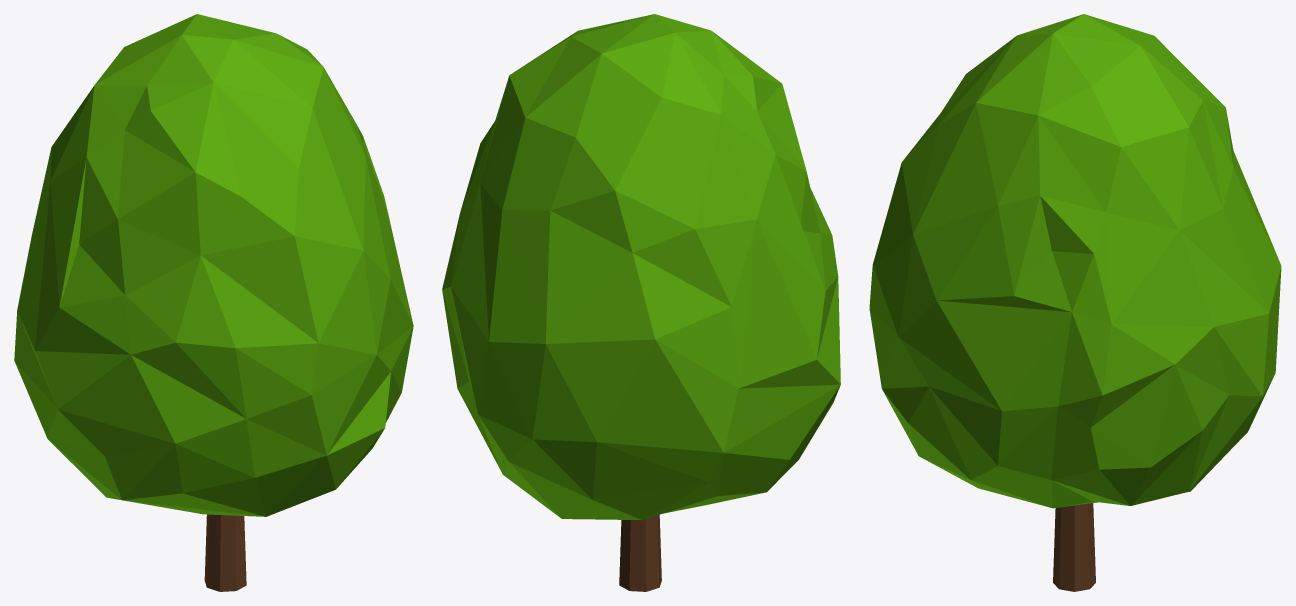
The model's file is ShrubTreeC.fbx.
3 renders of one model, left to right at view 1: azimuth 30°, elevation 25°; view 2: azimuth 150°, elevation 25°; view 3: azimuth 270°, elevation 25°, orthographic. The views are drawn at different scales.
Visible parts, largest first — view 1: ShrubTreeC_geo; view 2: ShrubTreeC_geo; view 3: ShrubTreeC_geo.
Part boxes in pixels (<box>): ShrubTreeC_geo: <box>14,14,413,591</box>; ShrubTreeC_geo: <box>442,14,840,591</box>; ShrubTreeC_geo: <box>869,14,1281,591</box>.
Bounding box in the file's own units: 427 × 639 × 434.
